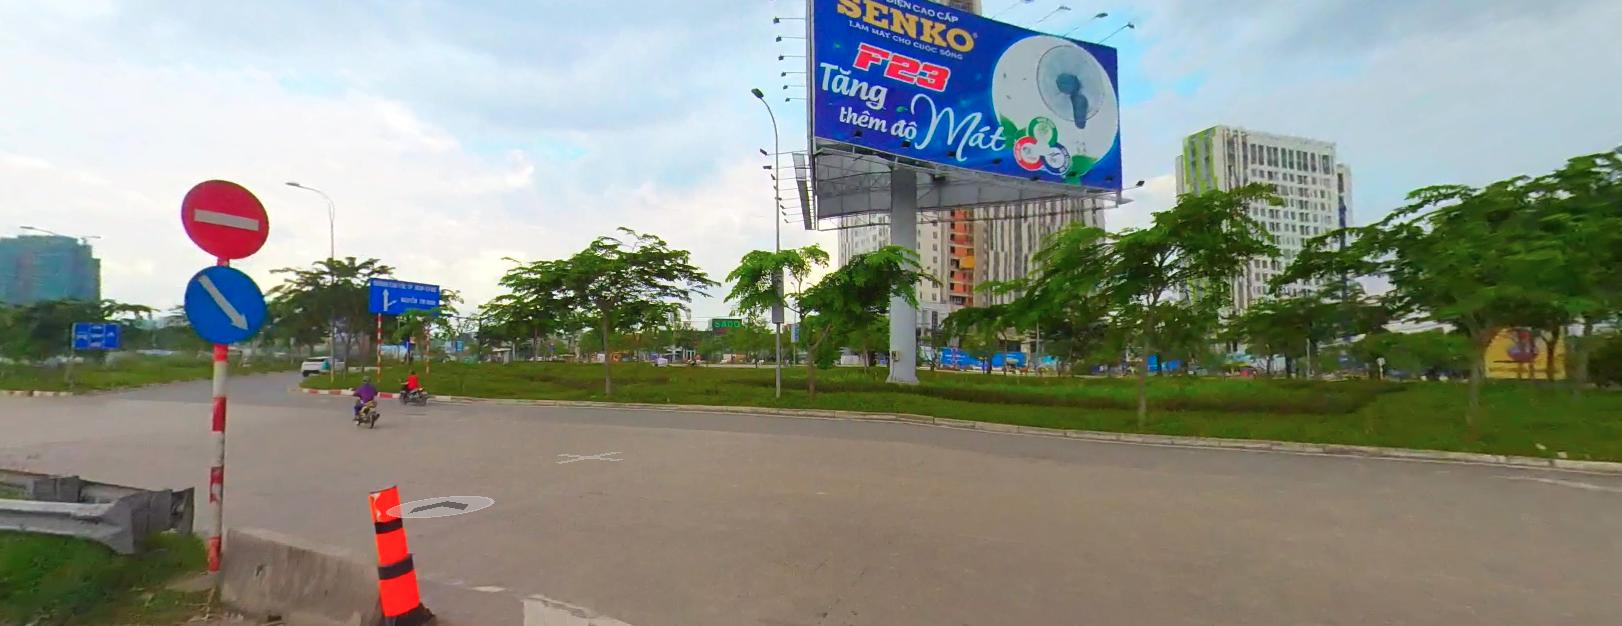Cam nguoc chieu: (175, 178, 275, 260)
Hieu lenh: (178, 264, 276, 349)
